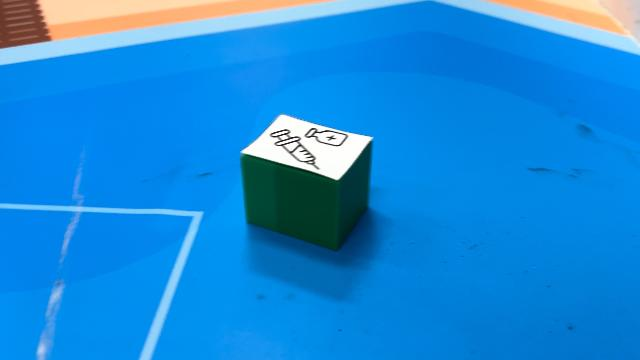syringe: (241, 115, 373, 249)
